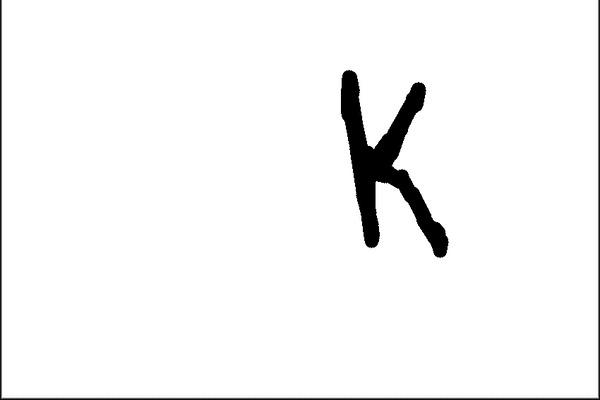K: (328, 61, 454, 263)
